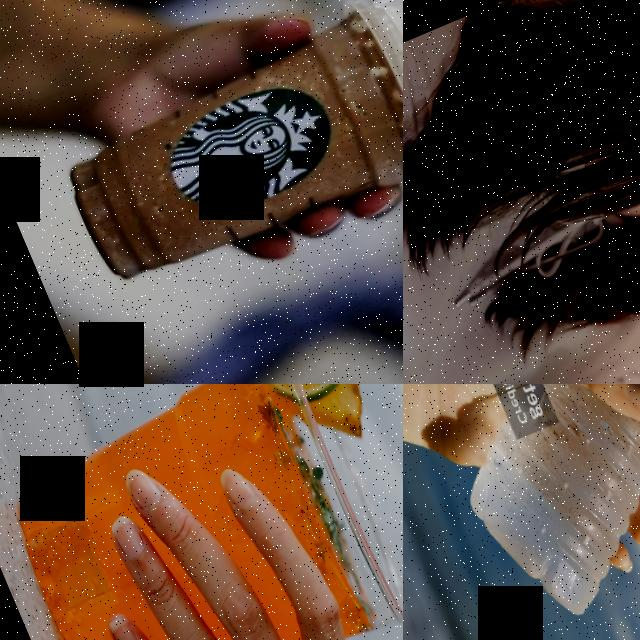bottle: (403, 384, 640, 631)
cup: (23, 0, 403, 327), (0, 384, 403, 640)
